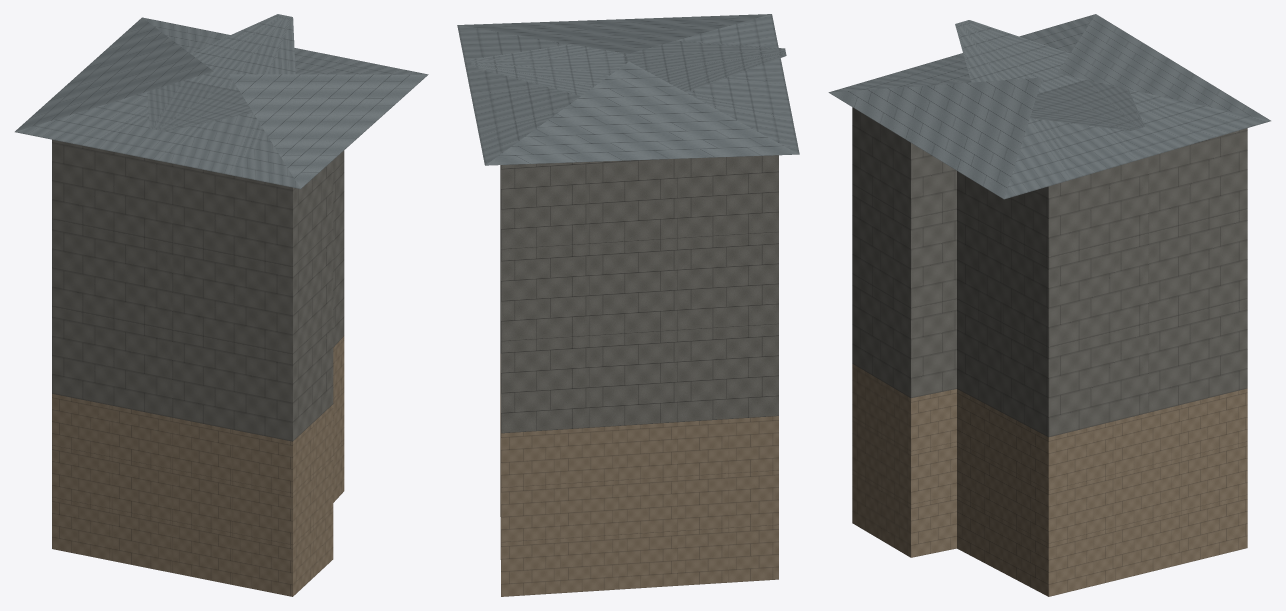
Rendered from bld_c21_44_389.gltf.
The picture shows the model from 3 angles, left to right: view 1: azimuth 30°, elevation 25°; view 2: azimuth 150°, elevation 25°; view 3: azimuth 270°, elevation 25°; orthographic projection. The views are drawn at different scales.
Parts seen in each view (by area): view 1: bld_c21_44_389; view 2: bld_c21_44_389; view 3: bld_c21_44_389.
Part boxes in pixels (x1,y1,x2,y2): bld_c21_44_389: (15, 14, 428, 596); bld_c21_44_389: (457, 14, 799, 596); bld_c21_44_389: (828, 14, 1270, 596).
Size of the model in its own units: 12.71 by 14.7 by 12.84.
Materials: 3 (3 with a texture image).
